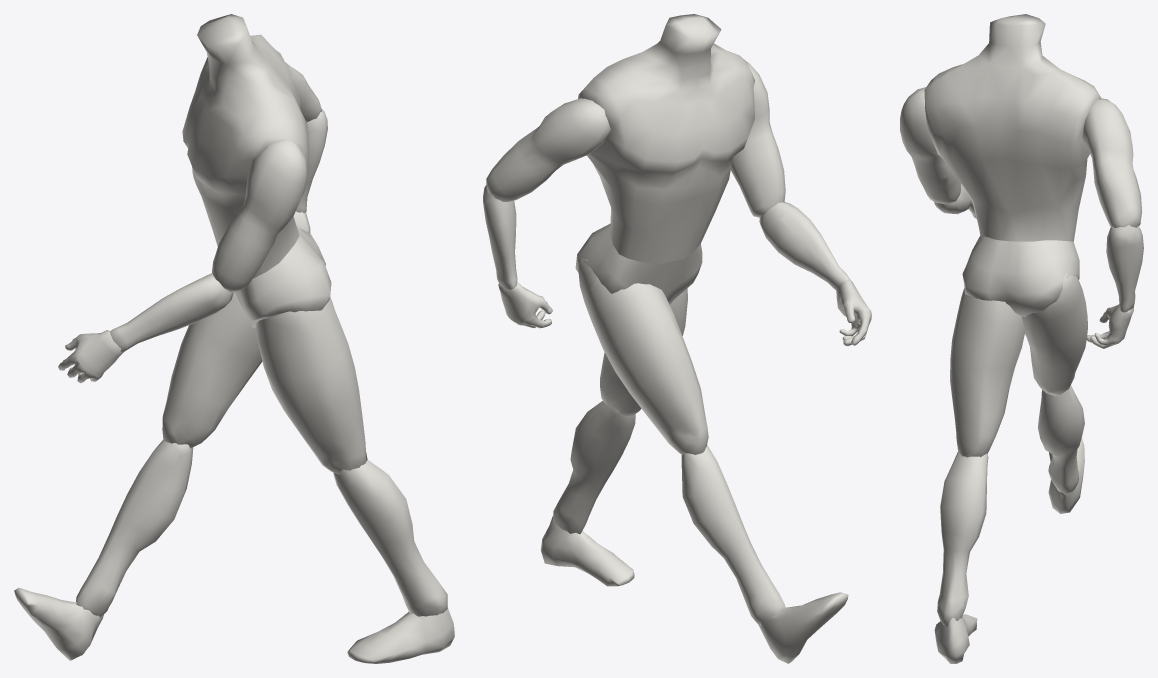
The model's file is male_walking.glb.
3 renders of one model, left to right at view 1: azimuth 30°, elevation 25°; view 2: azimuth 150°, elevation 25°; view 3: azimuth 270°, elevation 25°, orthographic. The views are drawn at different scales.
Visible parts, largest first — view 1: Standard.24, Standard.22, Standard.14, Standard.15, Standard.19, Standard.21, Standard.25, Standard.18, Standard.20, Standard.16, Standard.13, Standard.23 (+1 smaller); view 2: Standard.24, Standard.14, Standard.15, Standard.17, Standard.21, Standard.25, Standard.19, Standard.18, Standard.20, Standard.16, Standard.23, Standard.22 (+2 smaller); view 3: Standard.24, Standard.22, Standard.25, Standard.21, Standard.17, Standard.14, Standard.15, Standard.19, Standard.23, Standard.20, Standard.12, Standard.16 (+1 smaller).
Boxes of the visible parts, box(x1,y1,x2,y2) form: Standard.24: box(182, 14, 309, 278); Standard.22: box(256, 297, 367, 474); Standard.14: box(162, 292, 262, 448); Standard.15: box(76, 440, 193, 617); Standard.19: box(212, 139, 307, 292); Standard.21: box(333, 460, 447, 616); Standard.25: box(235, 226, 331, 327); Standard.18: box(110, 273, 233, 352); Standard.20: box(347, 607, 454, 663); Standard.16: box(14, 588, 103, 660); Standard.13: box(58, 330, 123, 383); Standard.23: box(296, 108, 327, 212); Standard.24: box(578, 14, 754, 263); Standard.14: box(578, 258, 708, 454); Standard.15: box(681, 444, 785, 625); Standard.17: box(486, 98, 610, 201); Standard.21: box(553, 401, 635, 534); Standard.25: box(575, 223, 702, 304); Standard.19: box(731, 61, 785, 217); Standard.18: box(759, 202, 850, 290); Standard.20: box(540, 516, 634, 586); Standard.16: box(759, 592, 848, 663); Standard.23: box(483, 185, 517, 289); Standard.22: box(600, 288, 687, 416); Standard.24: box(924, 14, 1101, 241); Standard.22: box(950, 288, 1025, 457); Standard.25: box(962, 235, 1079, 316); Standard.21: box(937, 452, 988, 626); Standard.17: box(1082, 98, 1142, 227); Standard.14: box(1021, 273, 1087, 396); Standard.15: box(1038, 385, 1084, 494); Standard.19: box(900, 87, 960, 204); Standard.23: box(1106, 225, 1143, 312); Standard.20: box(934, 614, 977, 663); Standard.12: box(1086, 304, 1133, 348); Standard.16: box(1048, 437, 1084, 513).
Size of the model in its own units: 0.045 by 0.0733 by 0.0285.
Materials: 14 (14 with a texture image).
